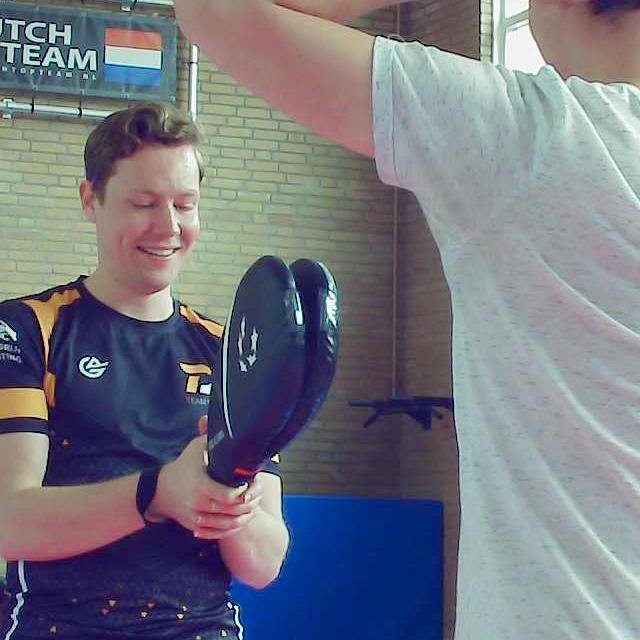paddle: (204, 257, 339, 485)
